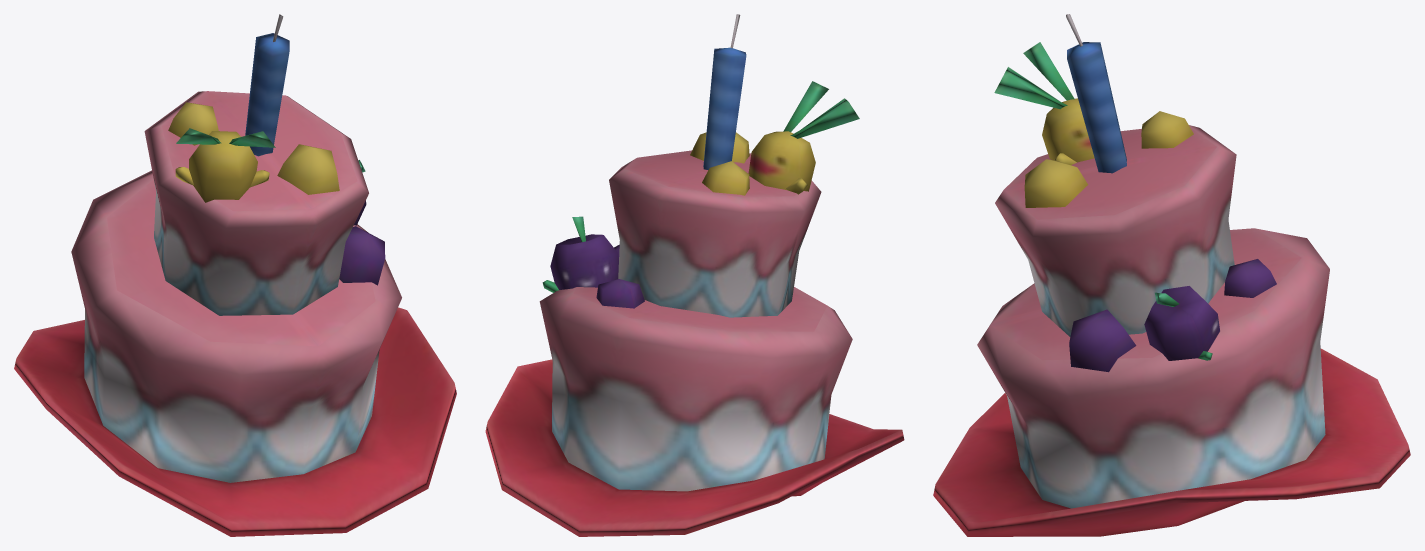
Rendered from cakeHat.glb.
The picture shows the model from 3 angles, left to right: view 1: azimuth 30°, elevation 25°; view 2: azimuth 150°, elevation 25°; view 3: azimuth 270°, elevation 25°; orthographic projection. The views are drawn at different scales.
Parts seen in each view (by area): view 1: cakeHat; view 2: cakeHat; view 3: cakeHat.
Part boxes in pixels (bbox=[...]): cakeHat: bbox=[14, 14, 456, 536]; cakeHat: bbox=[485, 14, 904, 536]; cakeHat: bbox=[933, 14, 1410, 536].
Size of the model in its own units: 0.3882 by 0.4802 by 0.4316.
Materials: 1 (1 with a texture image).
